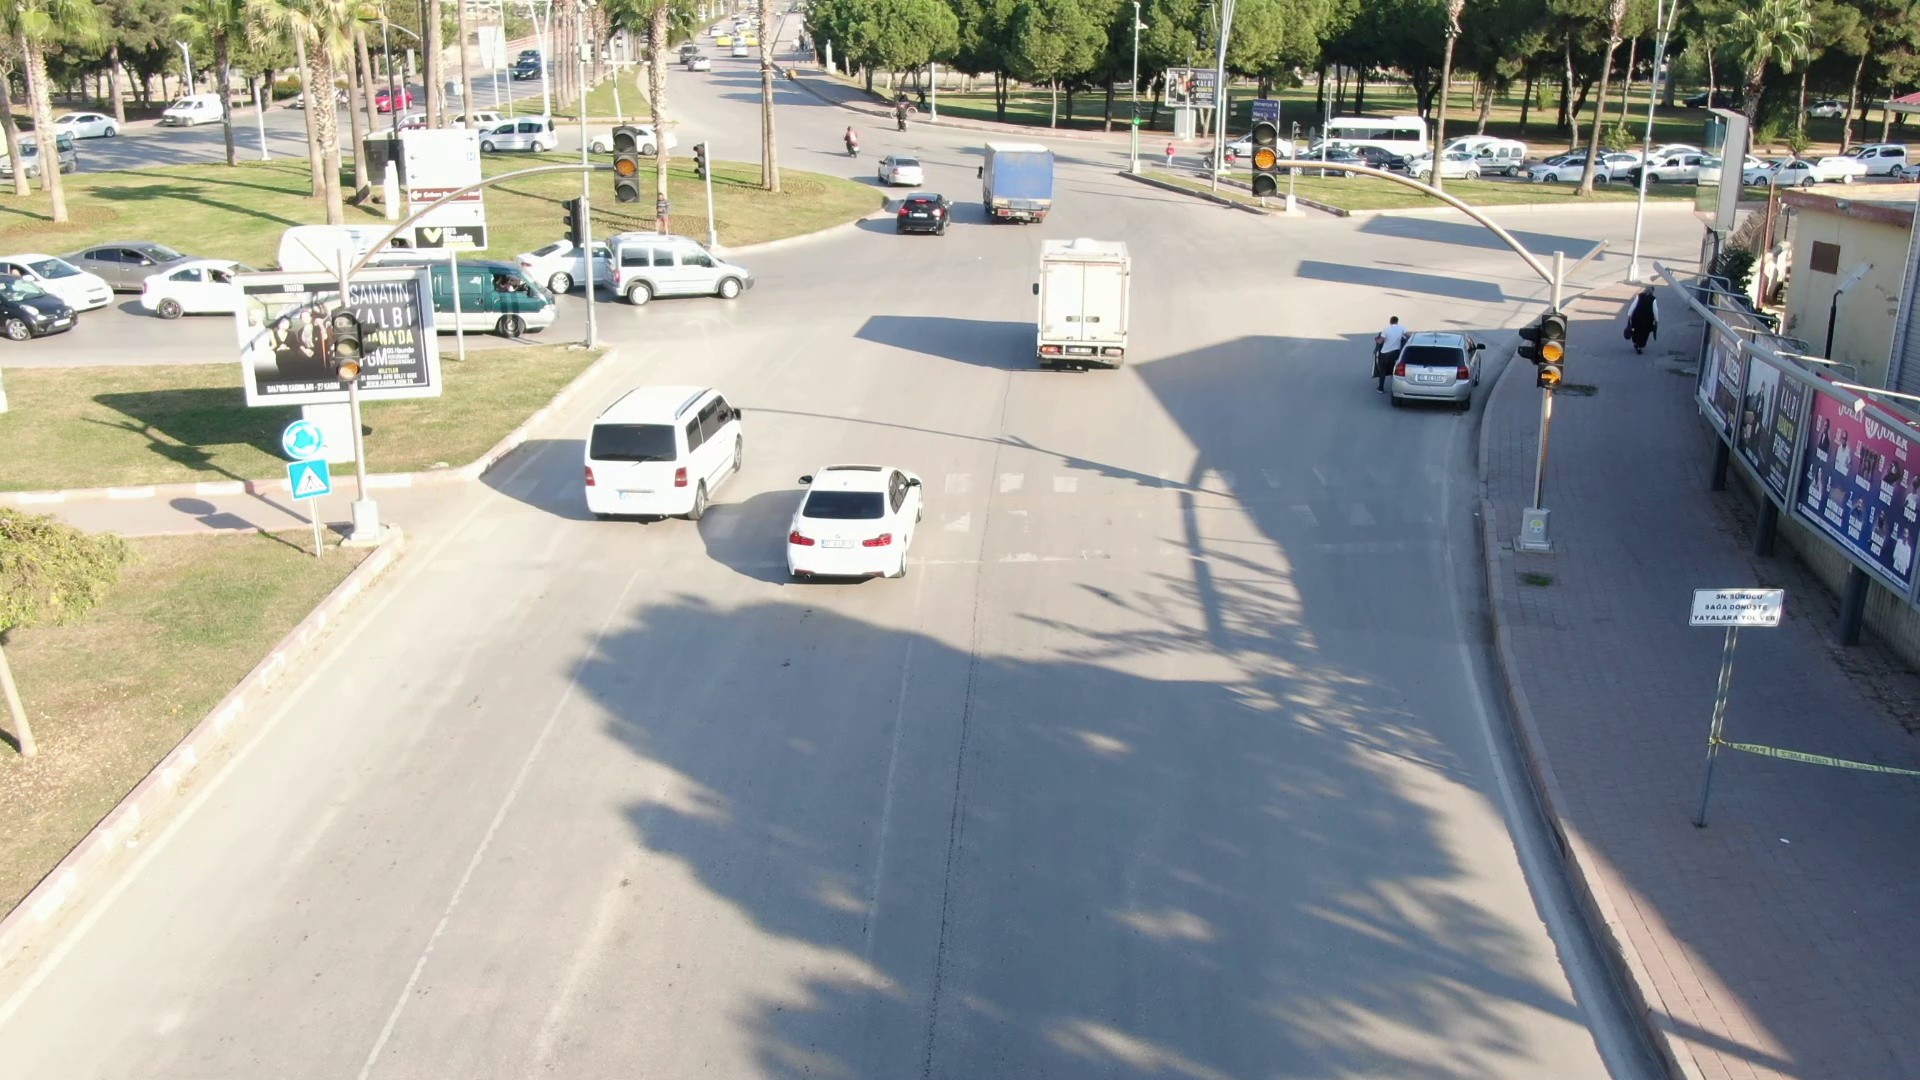car: (566, 359, 754, 532), (781, 434, 941, 595), (1010, 221, 1137, 374), (602, 224, 772, 325), (1393, 324, 1497, 416), (966, 138, 1067, 222), (884, 187, 975, 246), (475, 107, 563, 157), (872, 154, 924, 195)
person: (1614, 276, 1666, 358), (1376, 308, 1404, 394)
